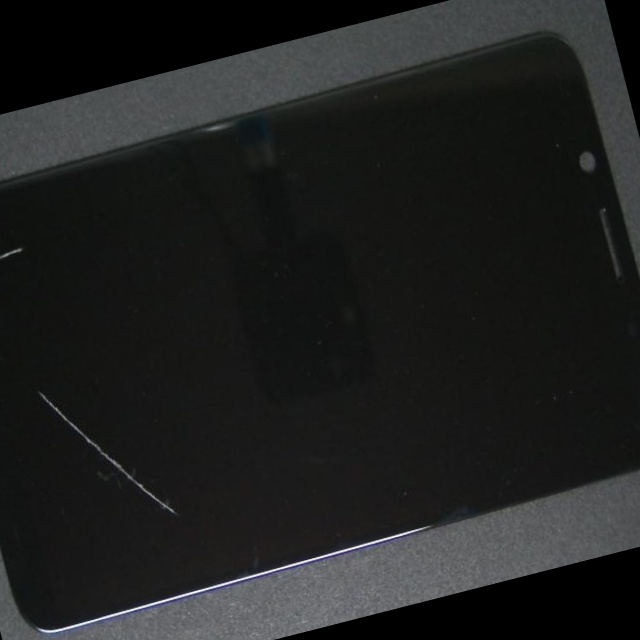scratch: (112, 368, 267, 640), (0, 178, 84, 310)
